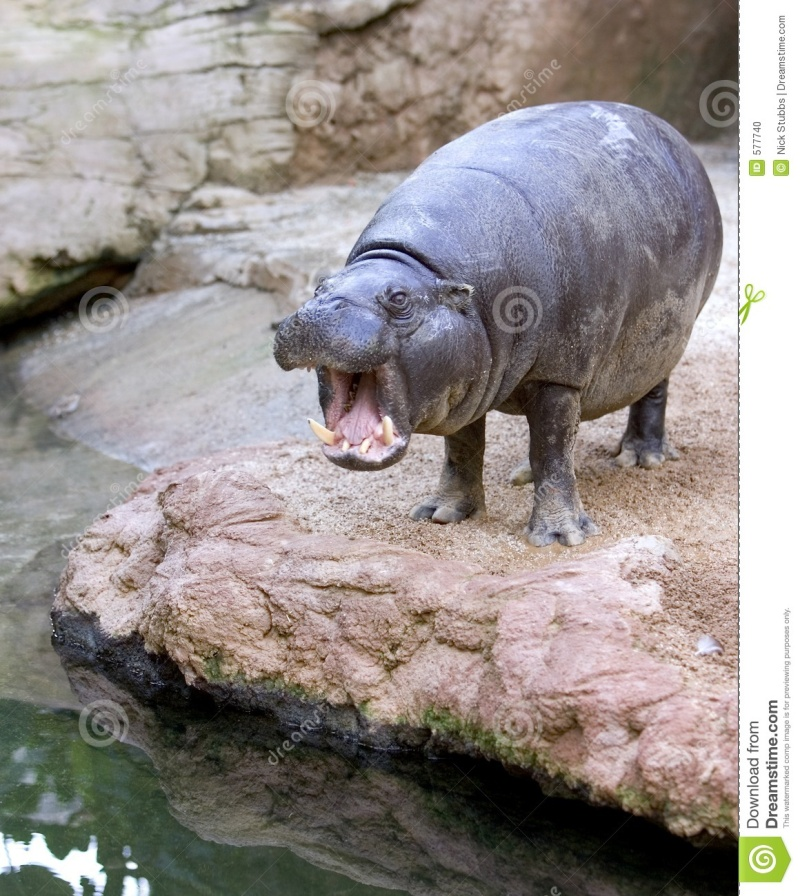hipopotamo: (275, 102, 724, 551)
